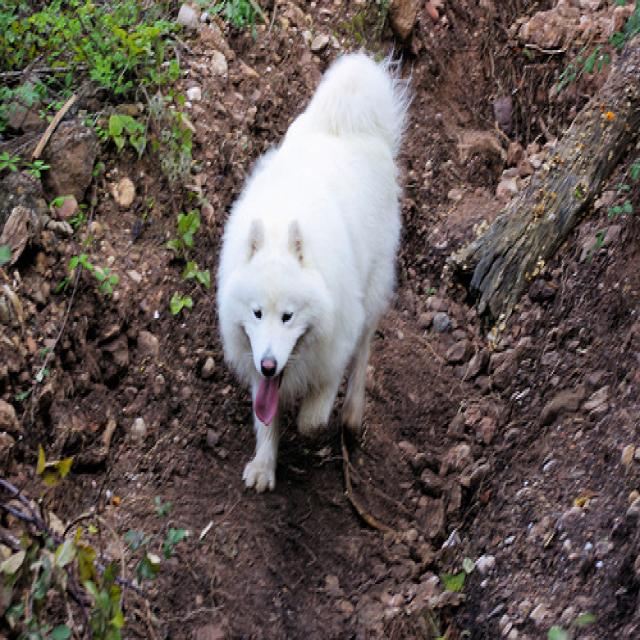dog-samoyed: (211, 40, 419, 503)
